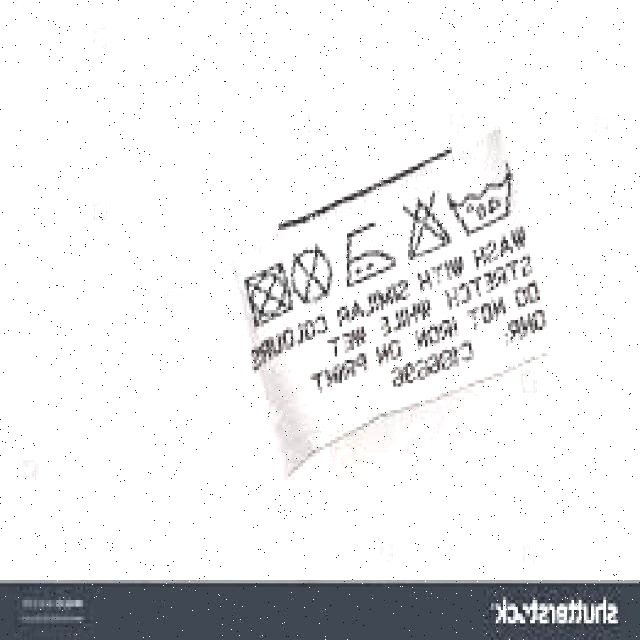40C: (445, 171, 515, 233)
DN_bleach: (402, 189, 449, 258)
DN_dry_clean: (290, 244, 336, 303)
DN_tumble_dry: (242, 260, 292, 329)
iron_medium: (340, 219, 397, 288)
